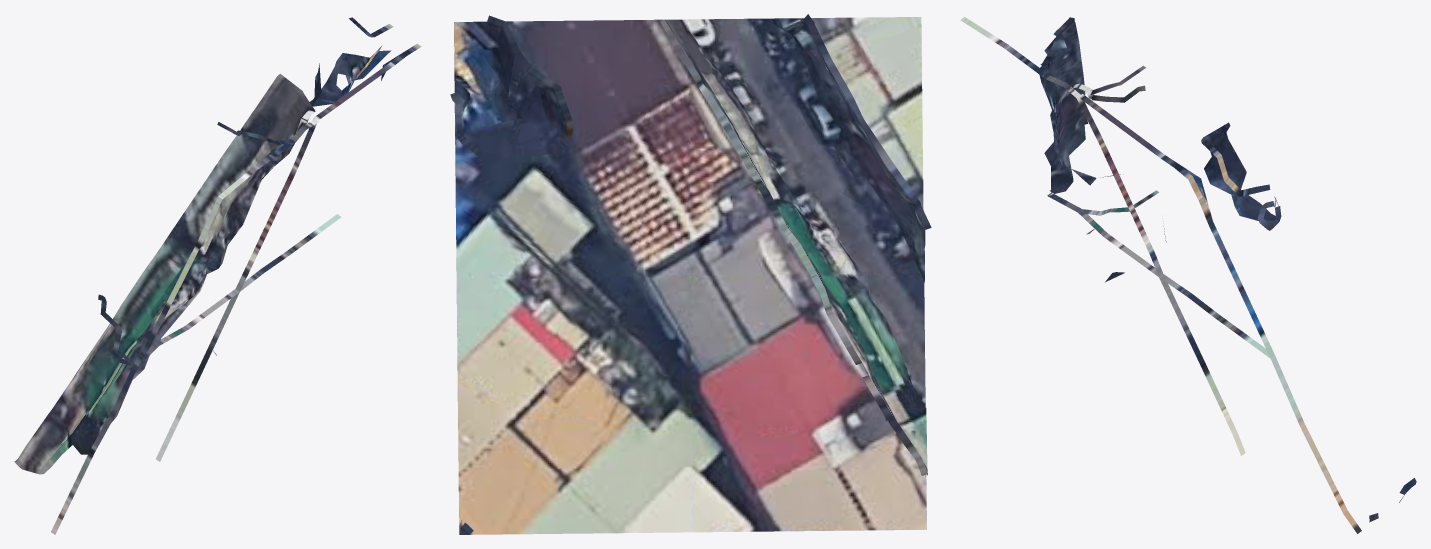
3 renders of one model, left to right at view 1: azimuth 30°, elevation 25°; view 2: azimuth 150°, elevation 25°; view 3: azimuth 270°, elevation 25°, orthographic. The views are drawn at different scales.
Bounding box in the file's own units: 40.01 × 37.71 × 36.02.
1 material, 1 textured.
